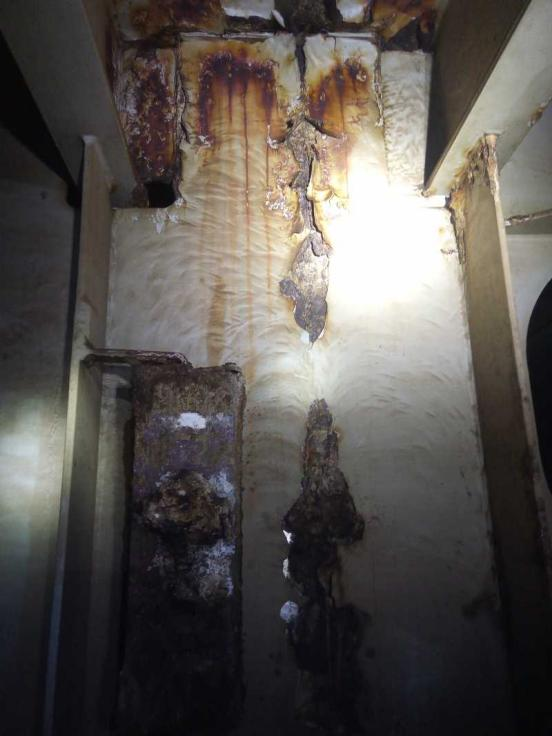corrosion: (101, 349, 255, 736), (273, 406, 392, 736), (276, 101, 342, 343), (108, 42, 190, 211), (189, 45, 282, 191), (293, 53, 381, 141), (102, 0, 249, 36), (352, 0, 444, 51), (260, 0, 350, 43)
